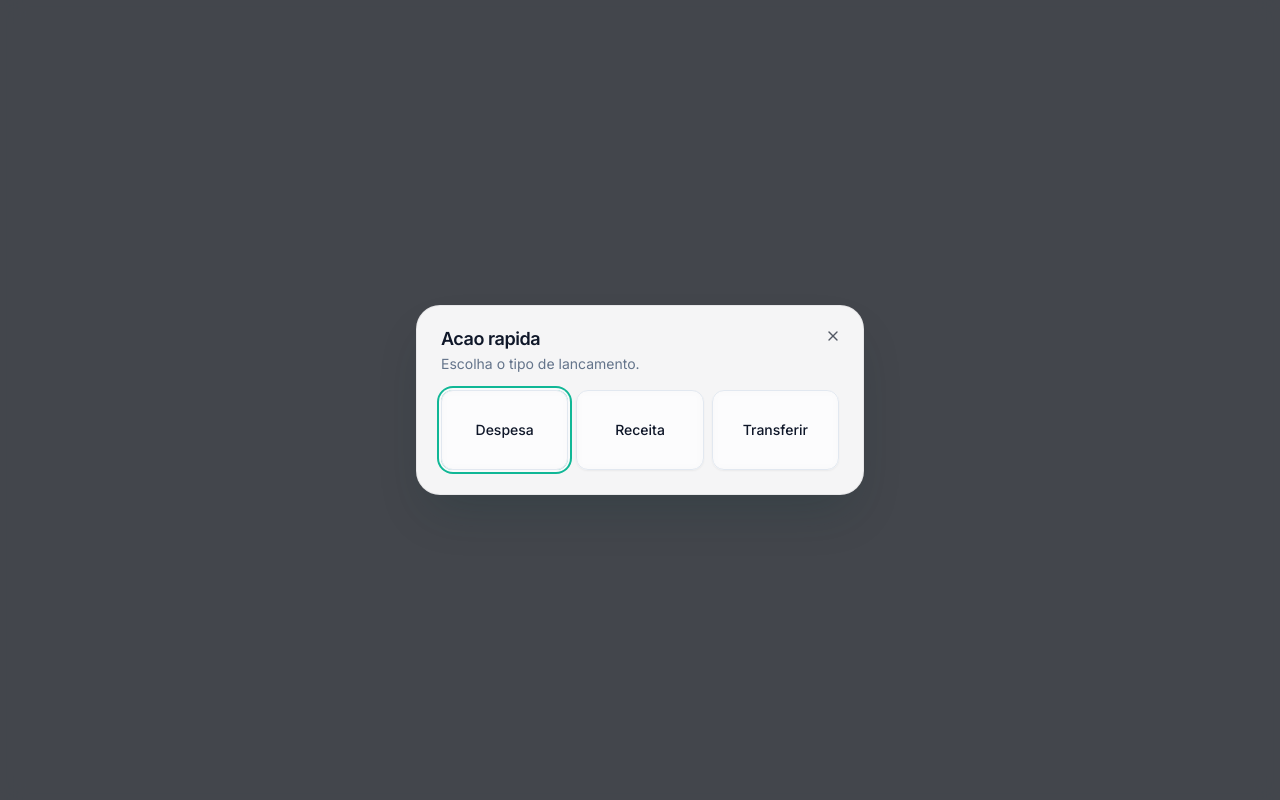
Test: QuickActionDialog › Transferir is shown as informational / disabled (no model action yet)
Click the button "Transferir": point(775, 430) 712,390 -> 839,470
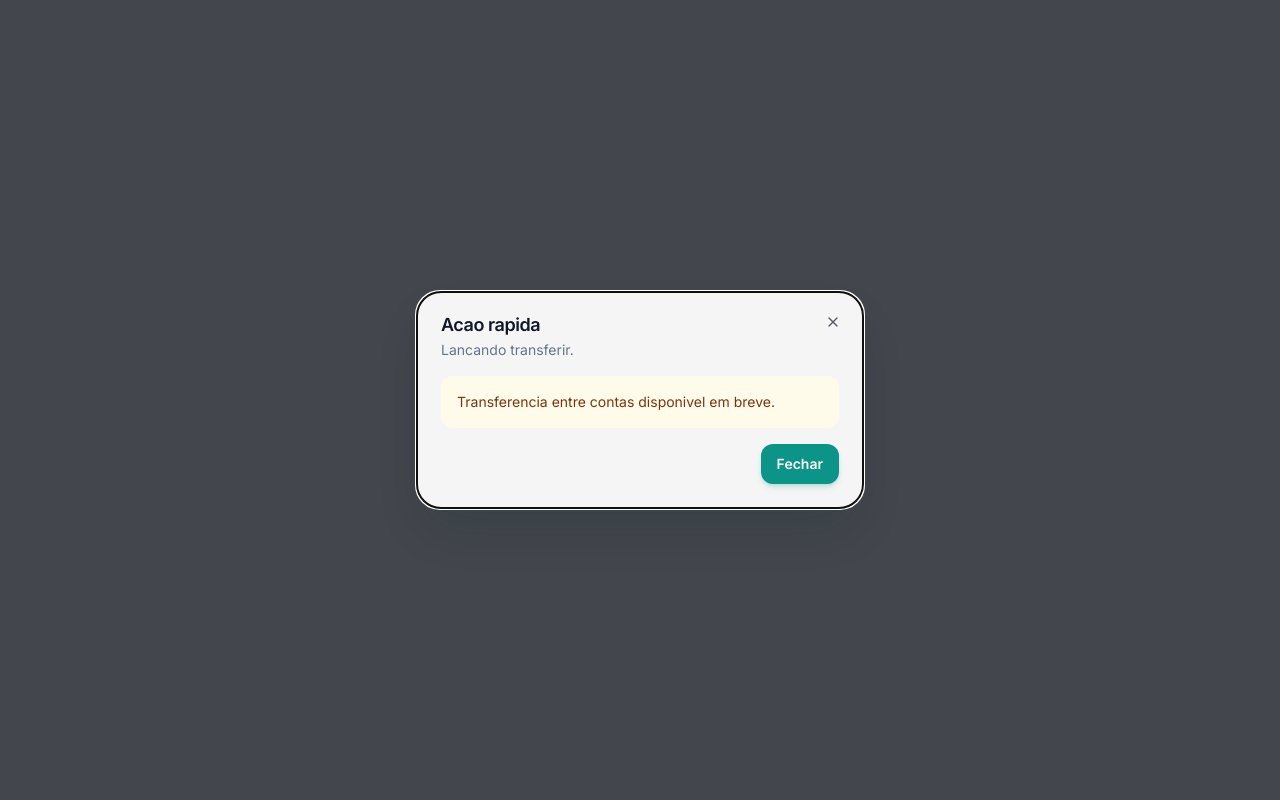
Expected: the text "Transferencia entre contas disponivel em breve." is shown, 441,376 -> 839,428
